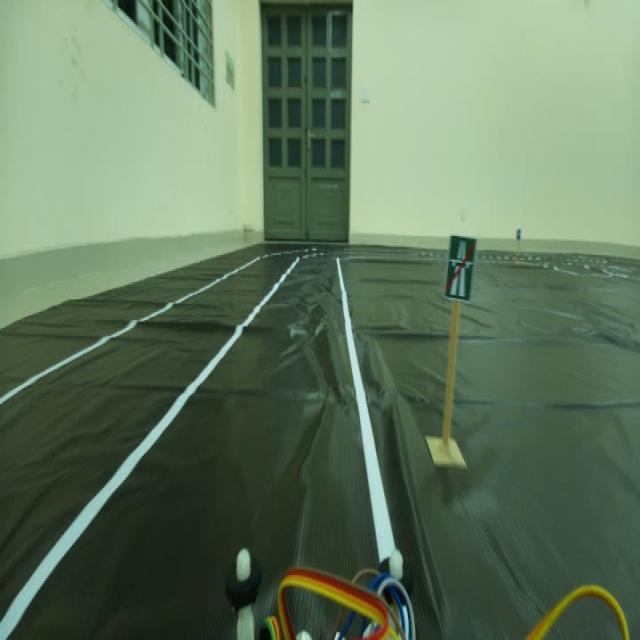highway_exit: (438, 226, 478, 311)
